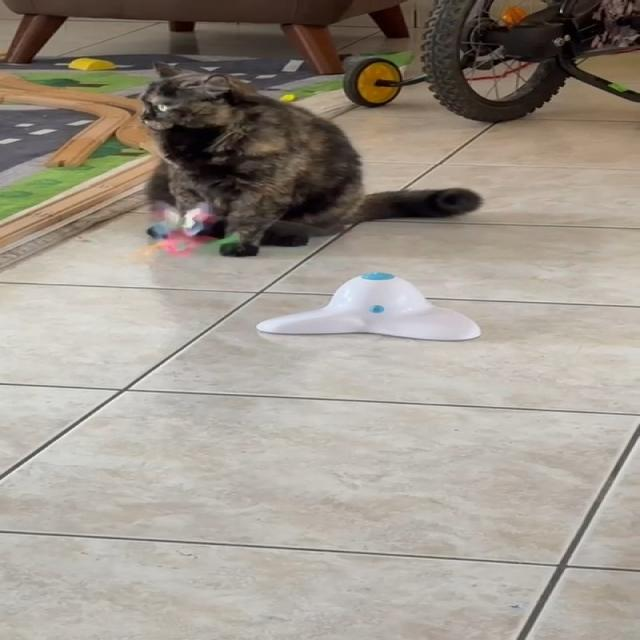authorized: (136, 60, 483, 256)
